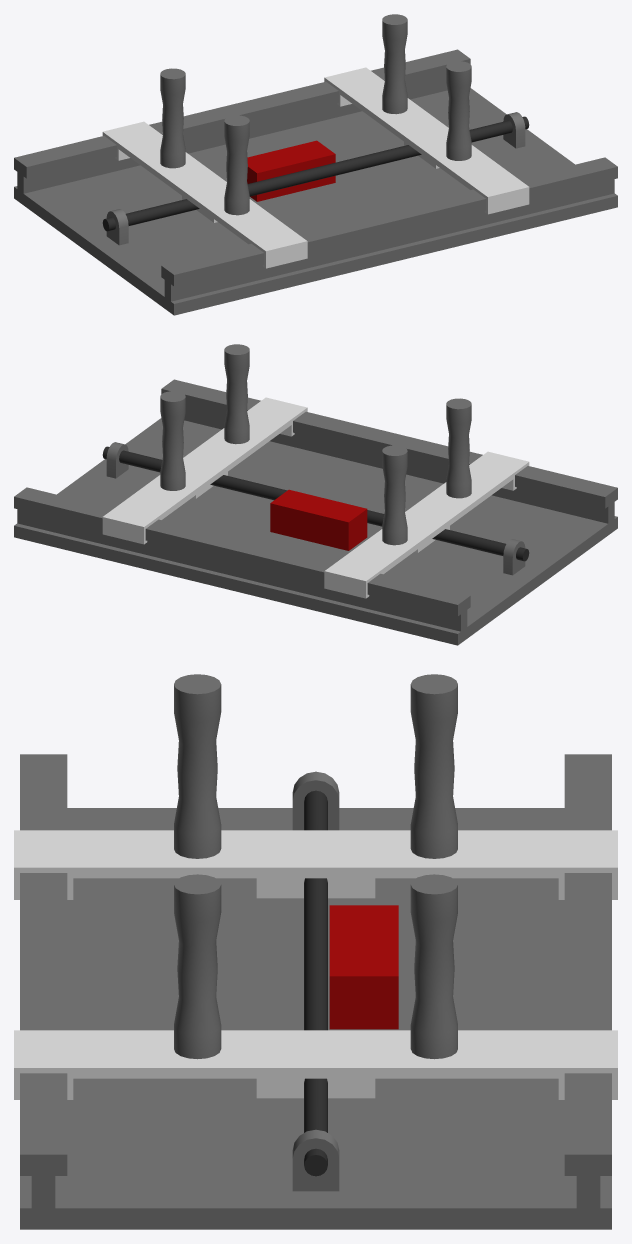
Rendered from modelado efector.dae.
3 views of the same model, one above another, from view 1: azimuth 30°, elevation 25°; view 2: azimuth 150°, elevation 25°; view 3: azimuth 270°, elevation 25° (orthographic). The views are drawn at different scales.
Parts seen in each view (by area): view 1: base, linkR, linkL; view 2: base, linkR, linkL; view 3: base, linkR, linkL.
Boxes of the visible parts, box(x1,y1,x2,y2) form: base: box(14, 49, 617, 315); linkR: box(324, 14, 529, 214); linkL: box(102, 68, 307, 268); base: box(14, 379, 617, 645); linkR: box(102, 344, 307, 544); linkL: box(324, 398, 529, 598); base: box(20, 754, 611, 1229); linkR: box(14, 874, 617, 1099); linkL: box(14, 674, 617, 899).
Bounding box in the file's own units: 0.8 × 0.51 × 0.2585.
